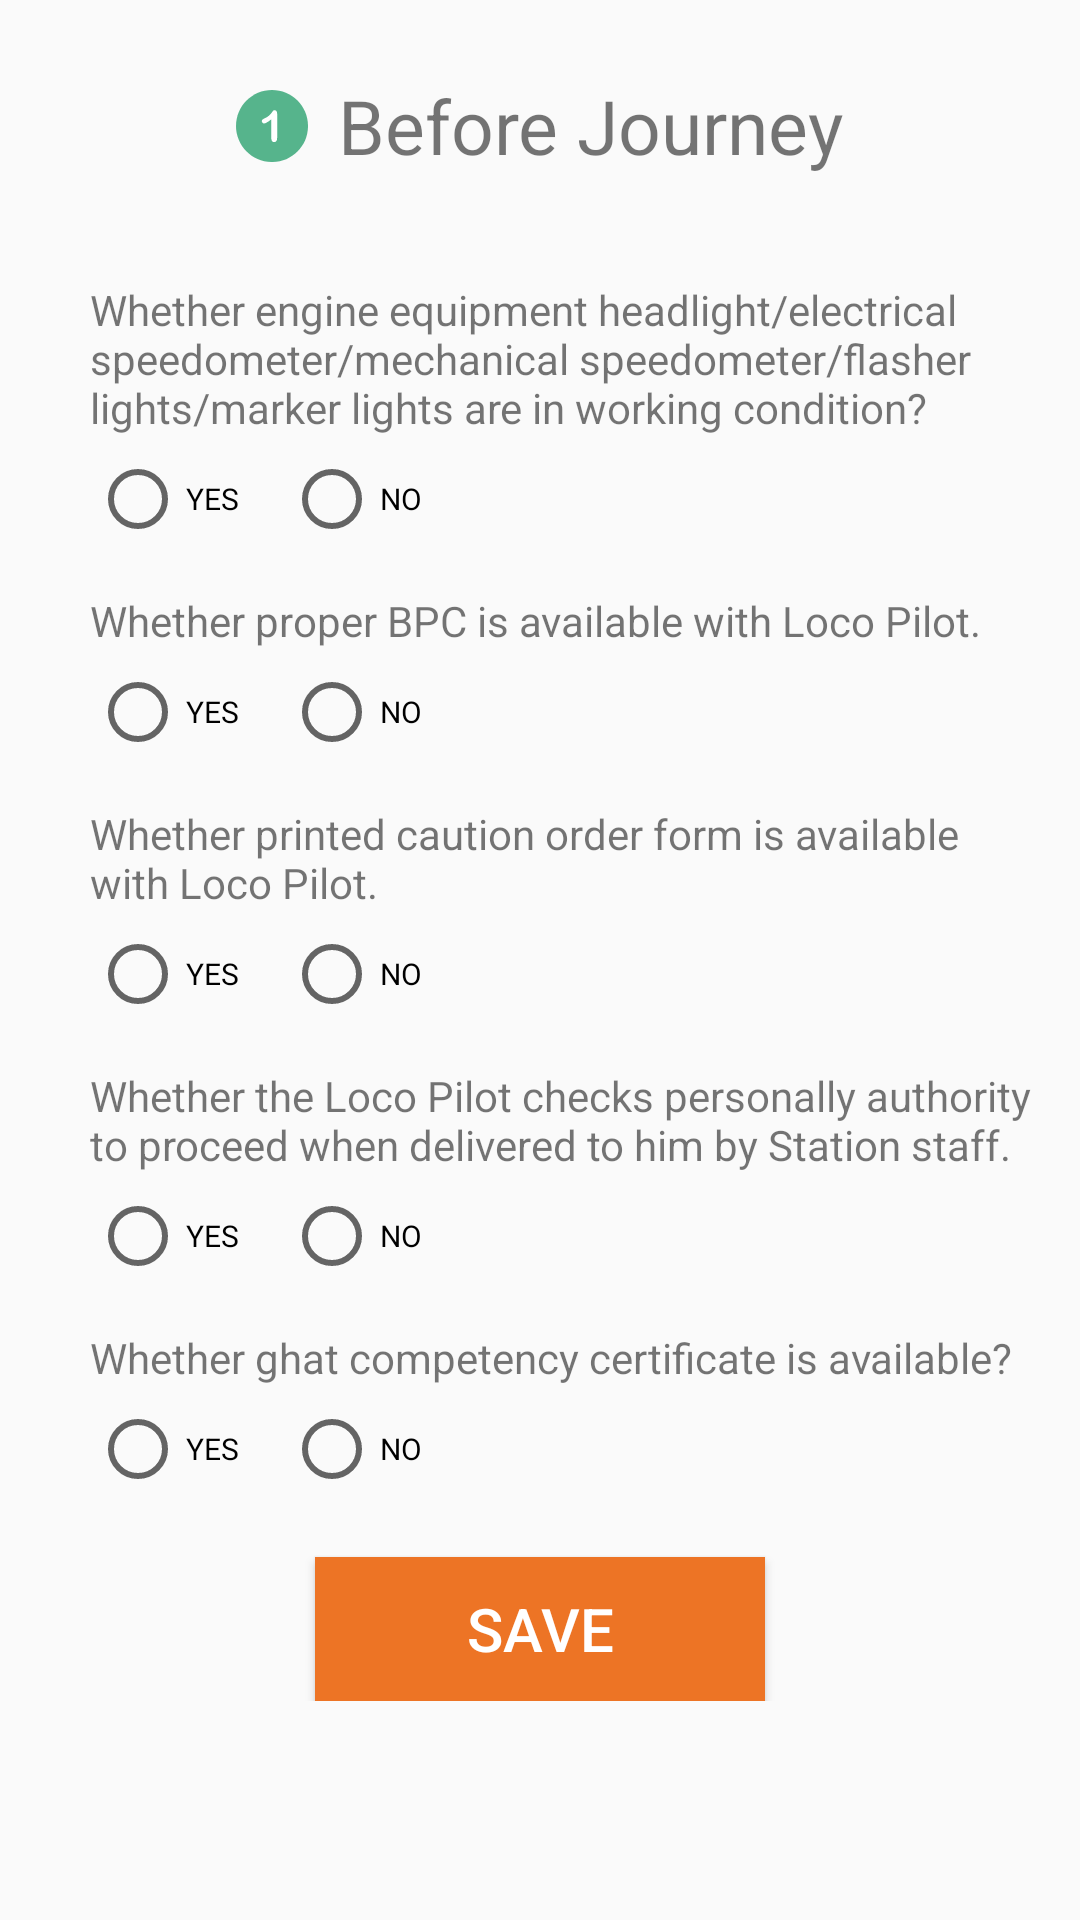

Screen size 1080 x 1920. Icon name, then its center in pixels as (x=x, y=y):
part one: (x=272, y=126)
